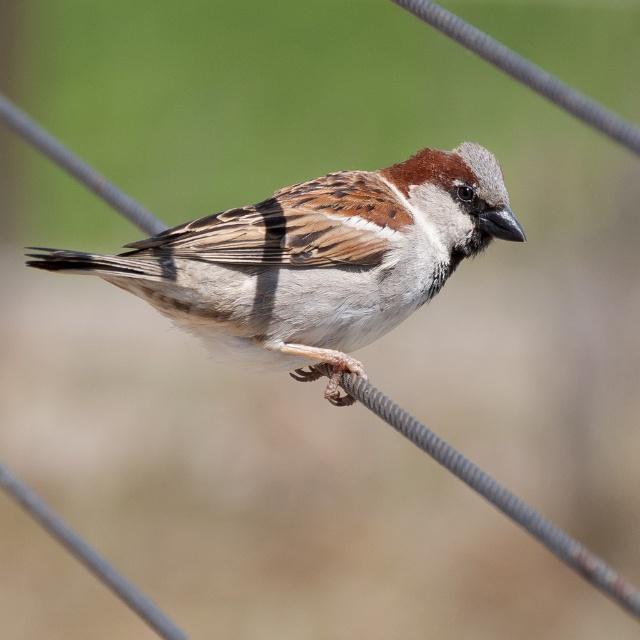Sparrow: (16, 141, 525, 425)
